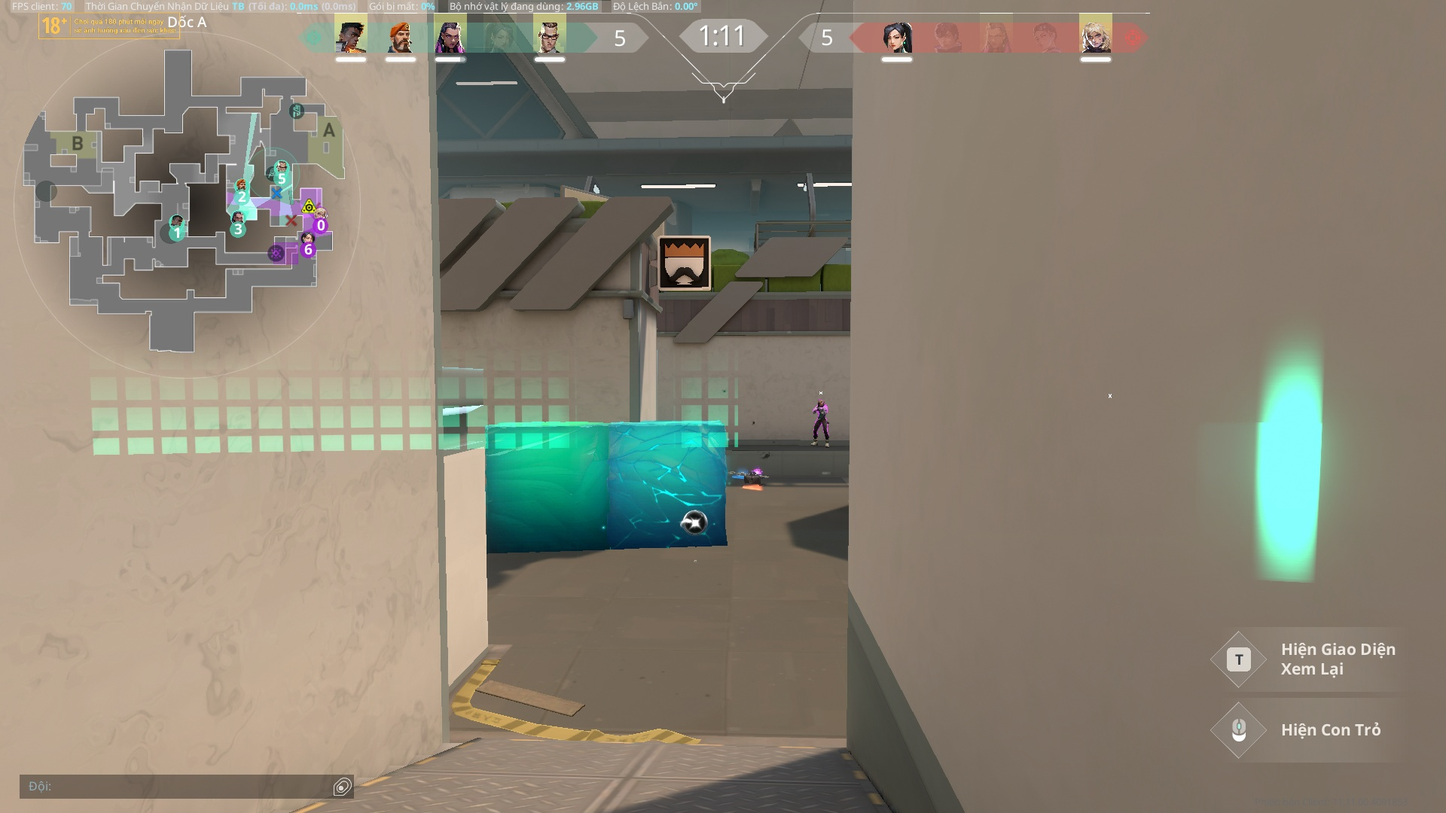body: (815, 403, 828, 419)
head: (817, 397, 825, 406)
